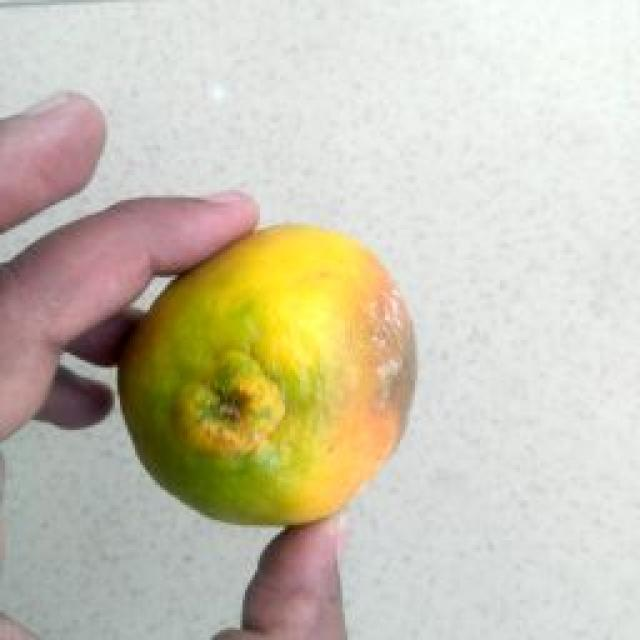Bad_Orange: (119, 225, 416, 524)
